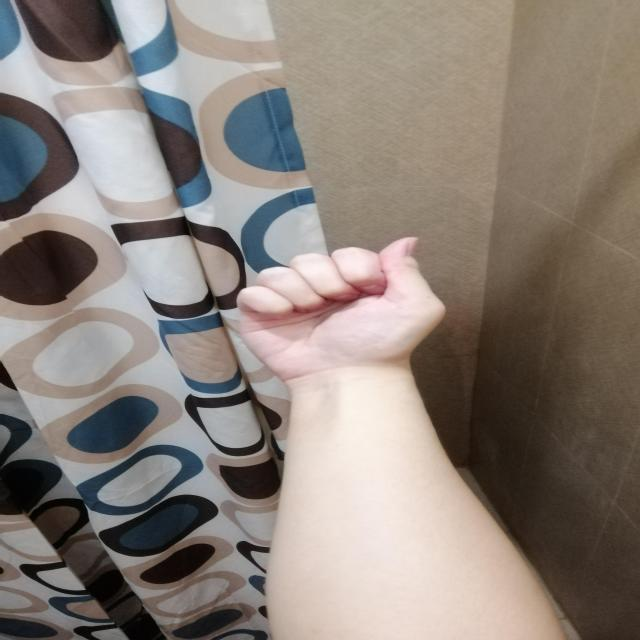A: (230, 234, 450, 368)
